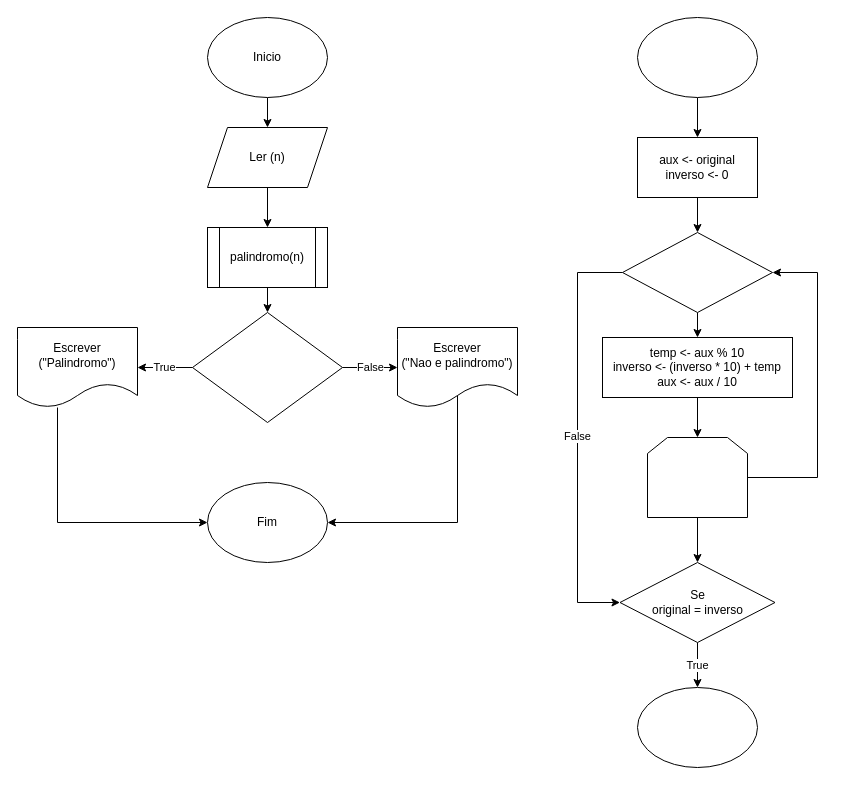
Some shapes in this 843 by 785 pixel diagram are drawn without their labels. Here are the shapes that lost their labels. From the top down, the centre of each, then its label:
At (697,57): "palindromo(original)".
At (697,272): "Enquanto aux != 0".
At (267,367): "Se palindromo(n) = true".
At (697,477): "Repetir".
At (697,727): "retornar true".
